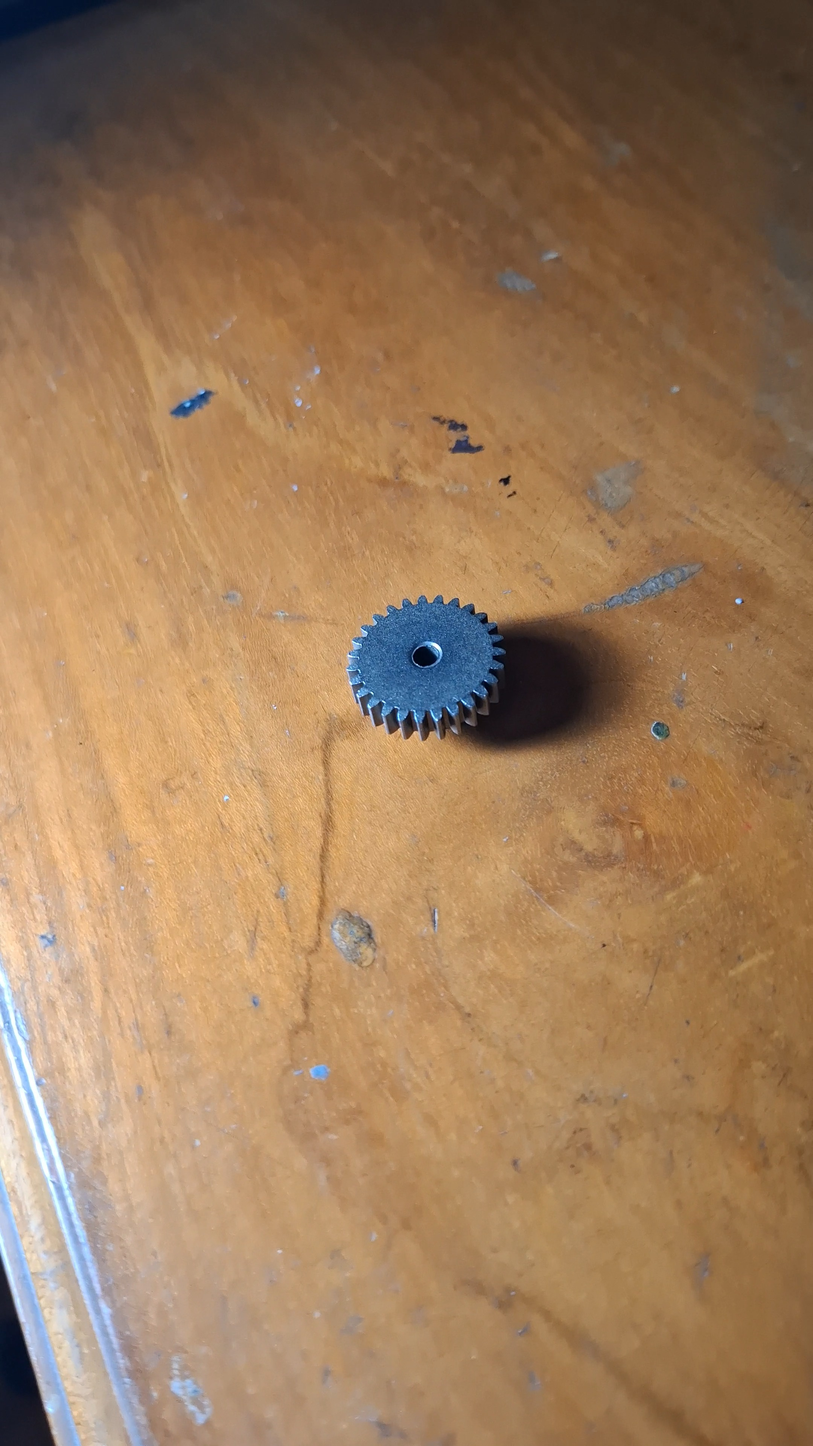spur gear: (347, 596, 504, 740)
